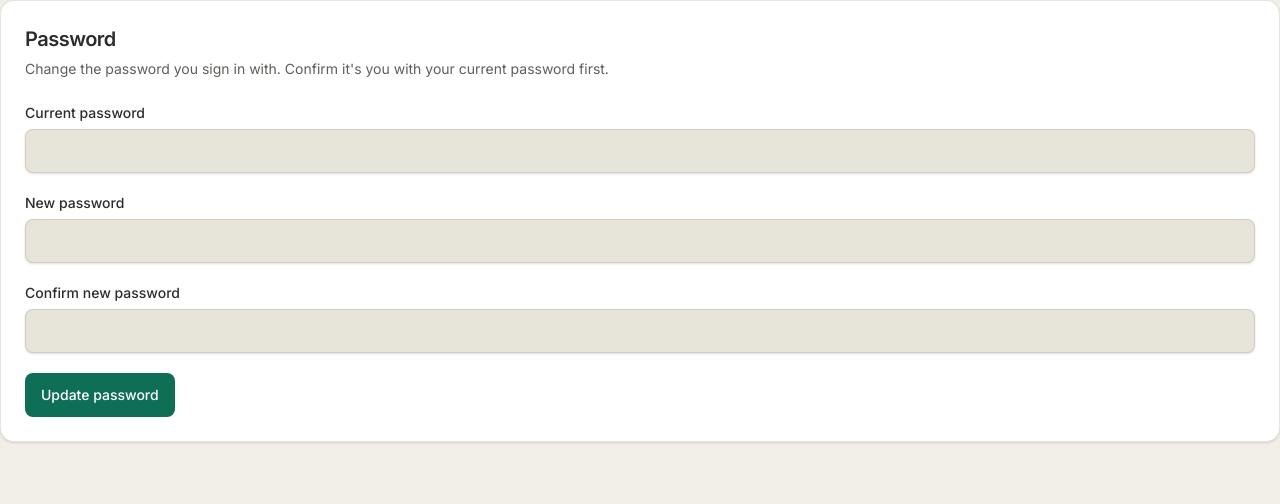
Test: ChangePasswordSection › requires the current password and a valid new password
Type "short" into the password field labelled "New password".
click(640, 241); type("short")  # box [25, 219, 1255, 263]
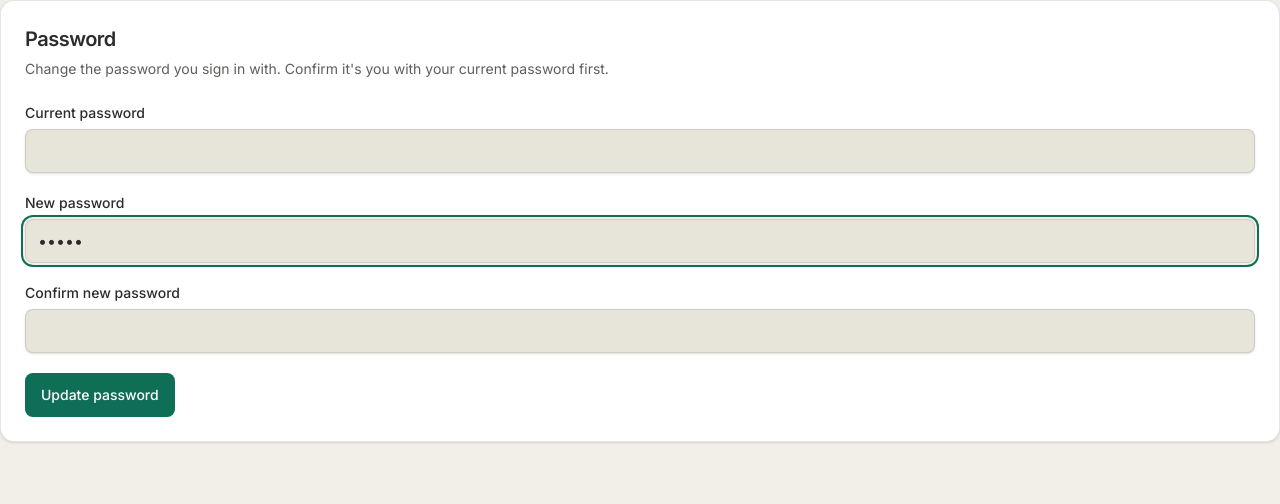
Type "short" into the password field labelled "Confirm new password".
click(640, 331); type("short")  # box [25, 309, 1255, 353]
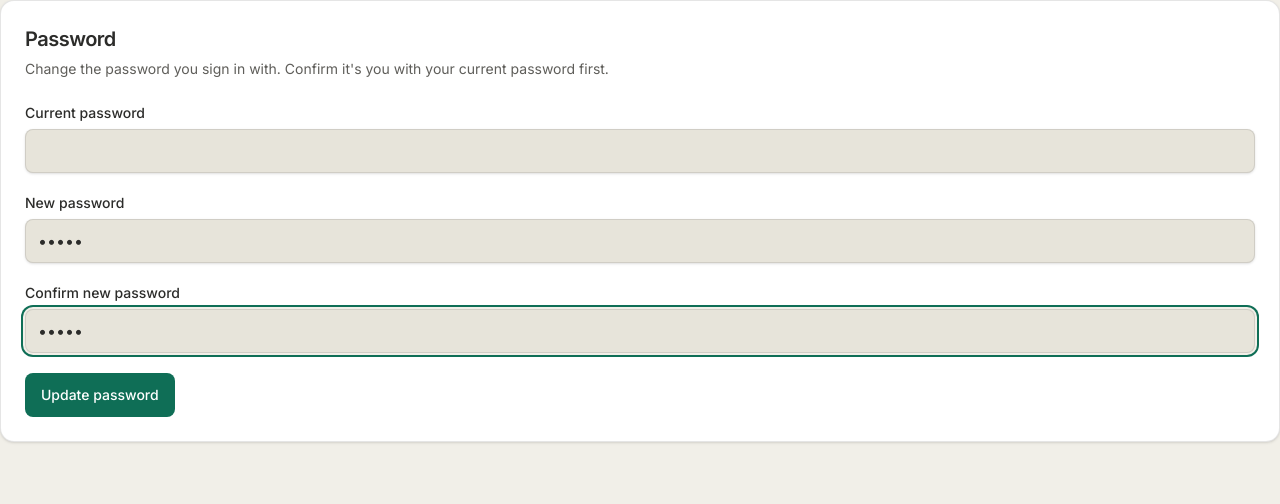
Click the button "Update password".
click(100, 395)  # box [25, 373, 175, 417]
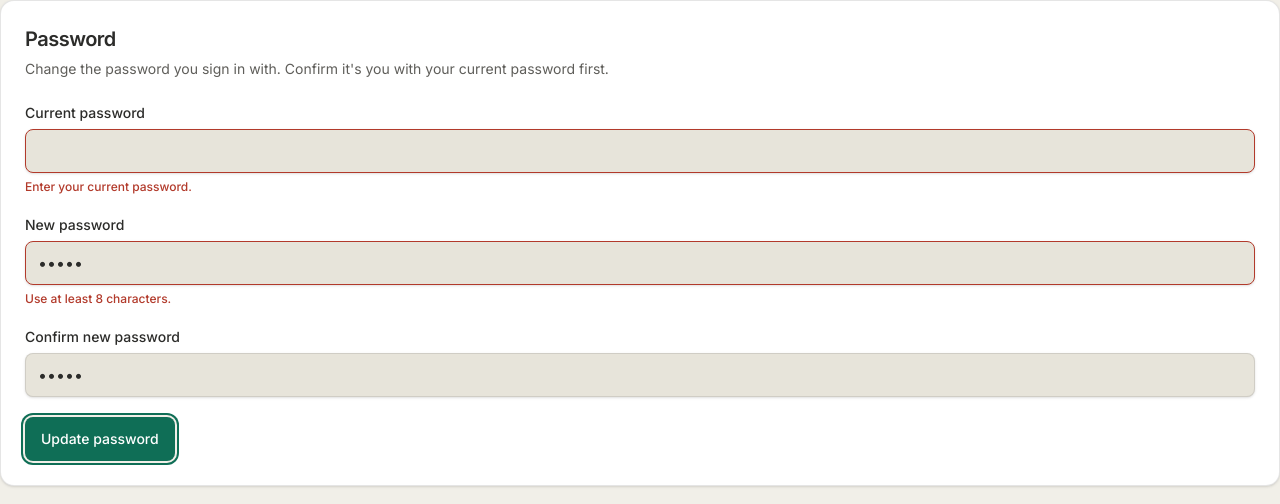
Check: the text "Enter your current password." is shown, box [25, 179, 192, 194]
Check: the text "Use at least 8 characters." is shown, box [25, 291, 171, 306]
